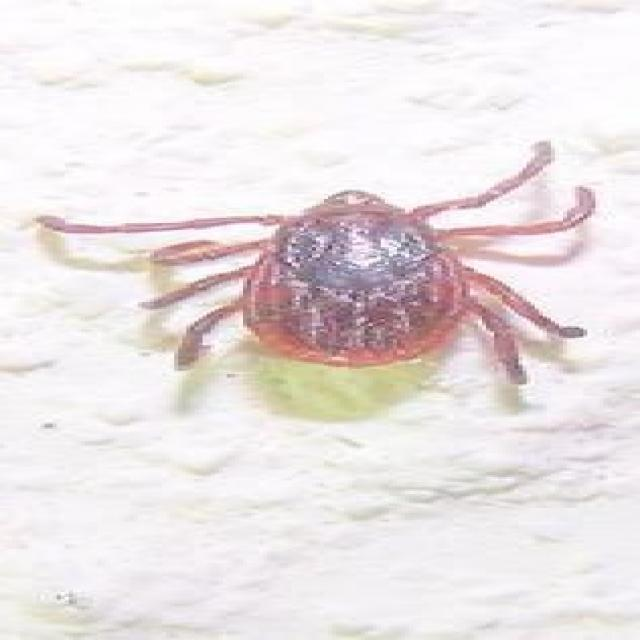Rhipicephalus Sanguineus-F: (36, 141, 595, 388)
